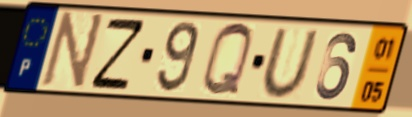6: (314, 30, 358, 103)
9: (155, 19, 201, 94)
N: (37, 10, 108, 94)
Q: (199, 20, 255, 100)
U: (259, 27, 322, 101)
Z: (88, 17, 149, 91)
